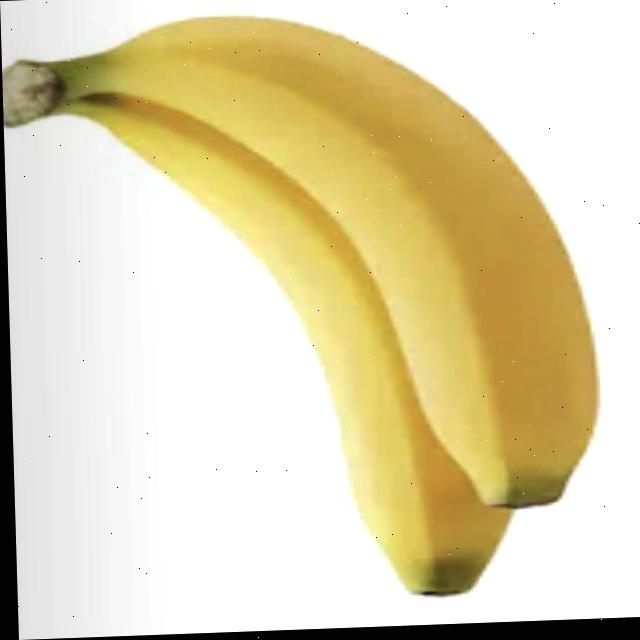banana: (103, 1, 614, 585)
